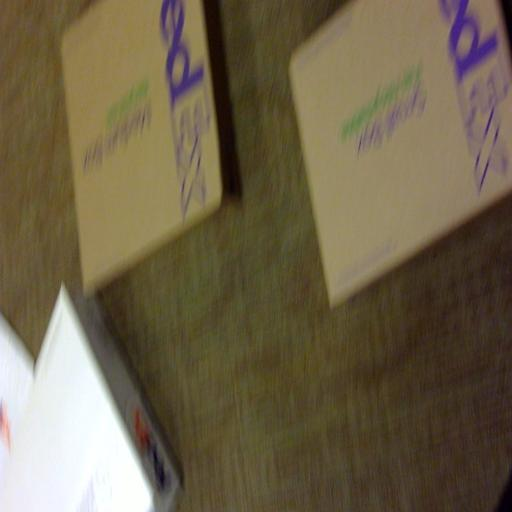Amazon: (289, 0, 512, 268), (70, 0, 218, 254)
